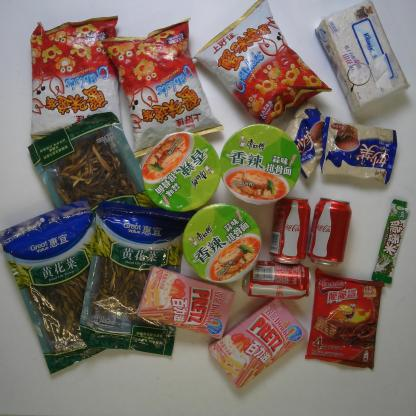Chocolate: (371, 199, 410, 284)
Dessert: (208, 298, 308, 388), (305, 268, 386, 370), (136, 265, 234, 336), (319, 115, 398, 186), (286, 98, 326, 180)
Dried Food: (1, 197, 110, 374), (80, 200, 194, 356), (26, 112, 157, 214)
Drink: (308, 197, 352, 268), (270, 196, 312, 265), (242, 259, 311, 299)
Instant Noodles: (217, 123, 300, 206), (181, 203, 263, 285), (142, 134, 218, 212)
Puffed Food: (191, 1, 333, 127), (100, 18, 224, 150), (30, 15, 119, 139)
Tissue: (313, 2, 410, 113)
